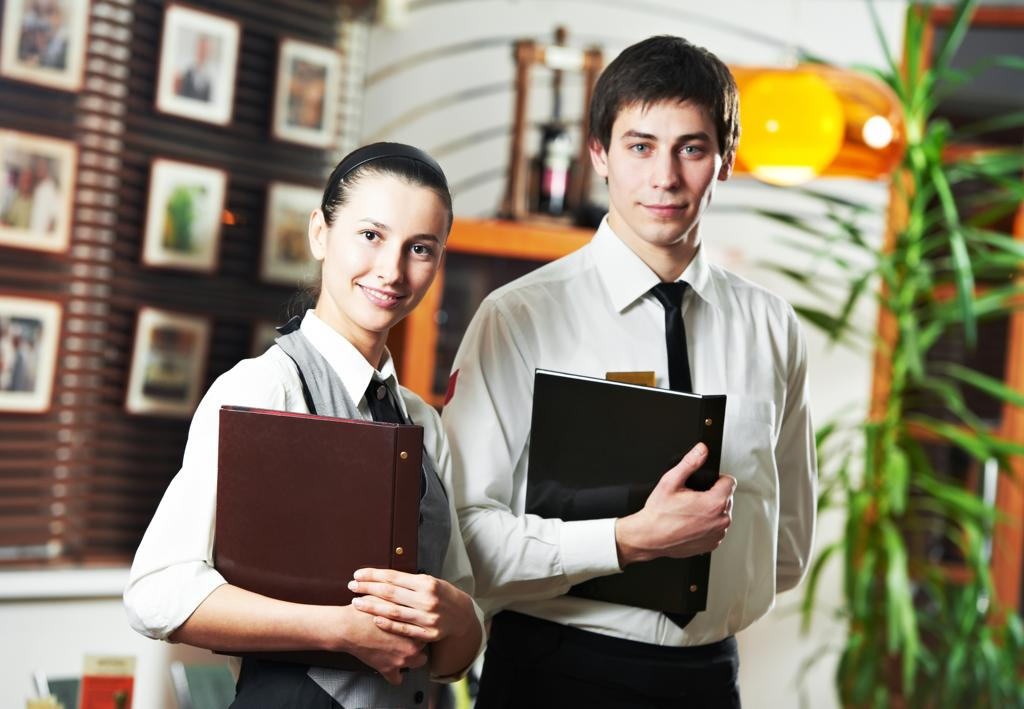face: (608, 88, 720, 244), (332, 186, 440, 332)
